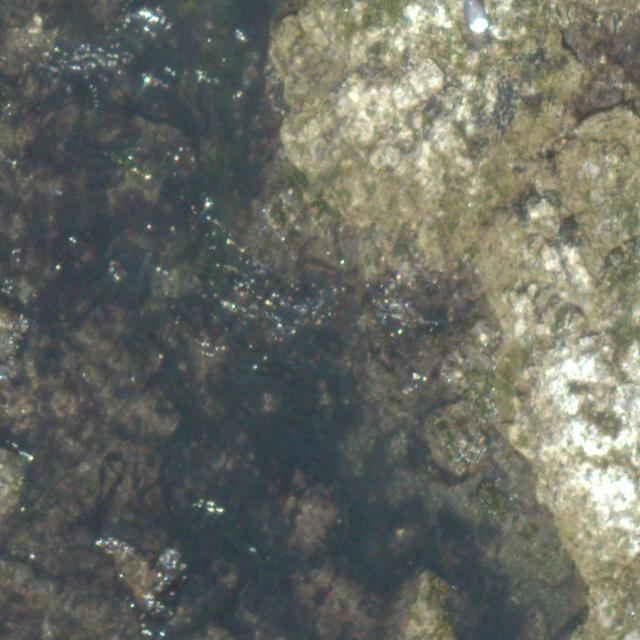umineko: (465, 4, 493, 35)
